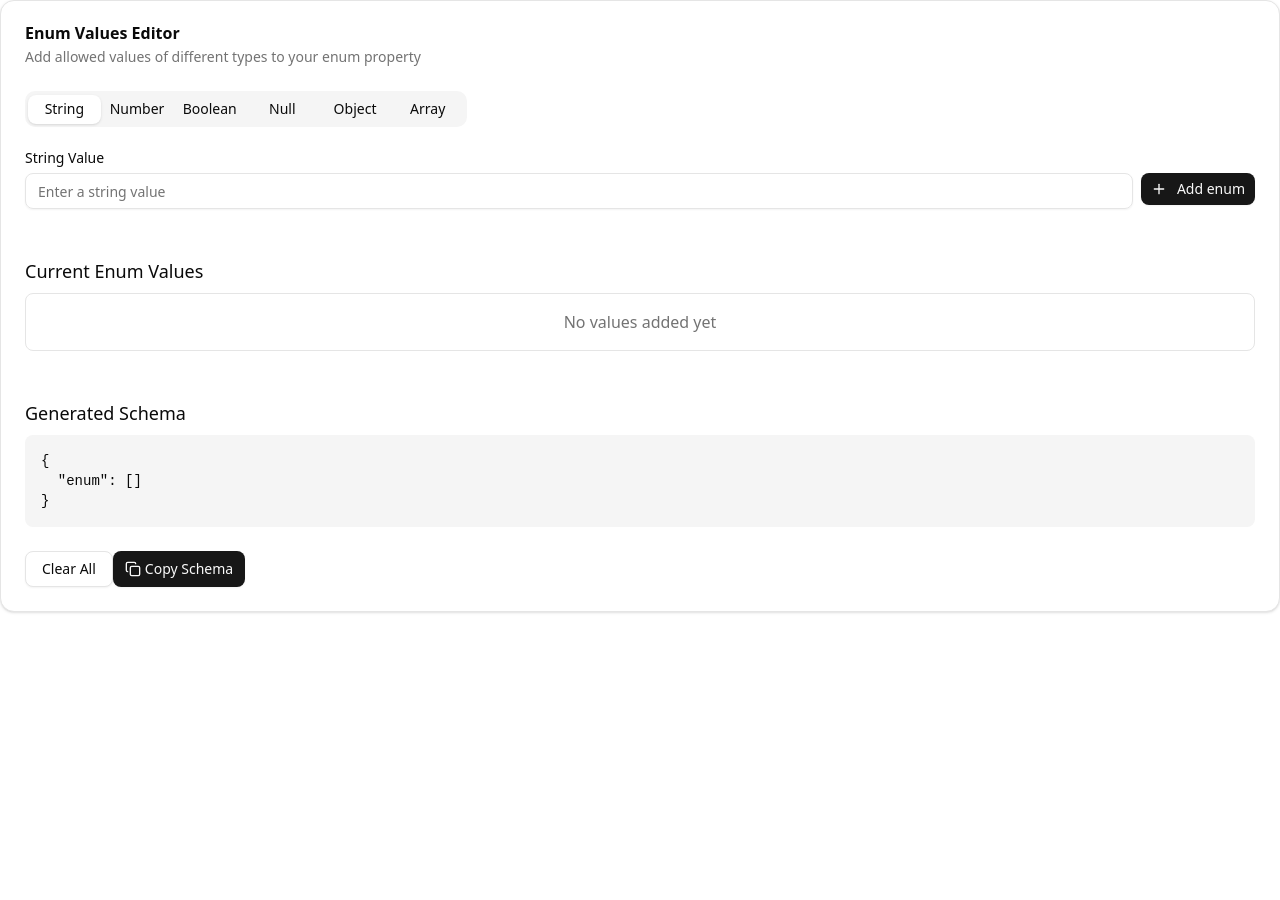
Scenario: EnumEditor › Value Management › shows validation errors for invalid array JSON
# Switch to array tab
Click the tab "Array".
click(428, 109)  # box [391,94,464,124]
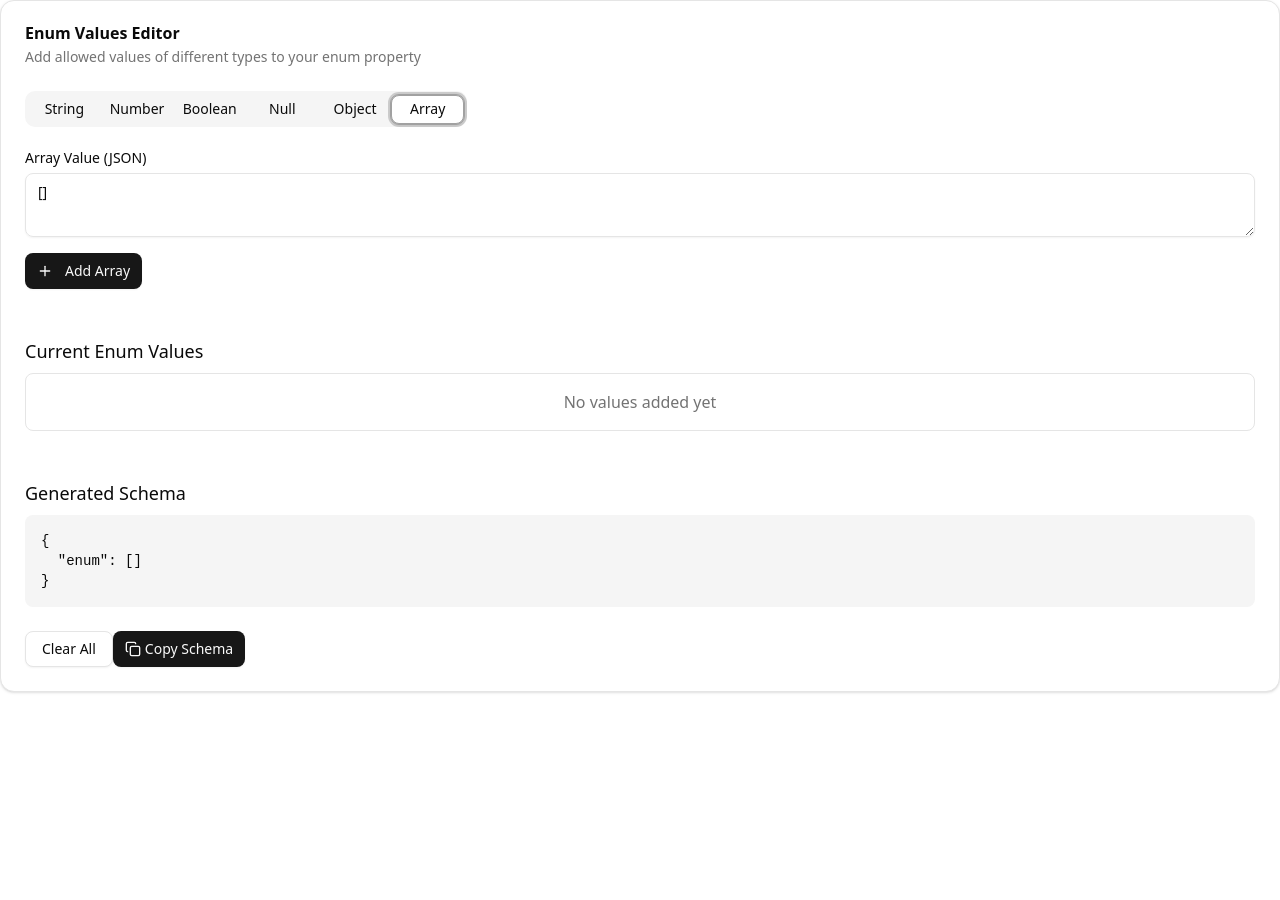
# Type invalid JSON
Replace the text in the text box labelled "Array Value (JSON)" with "[ [1,2," at (640, 205), box [25,173,1255,237]
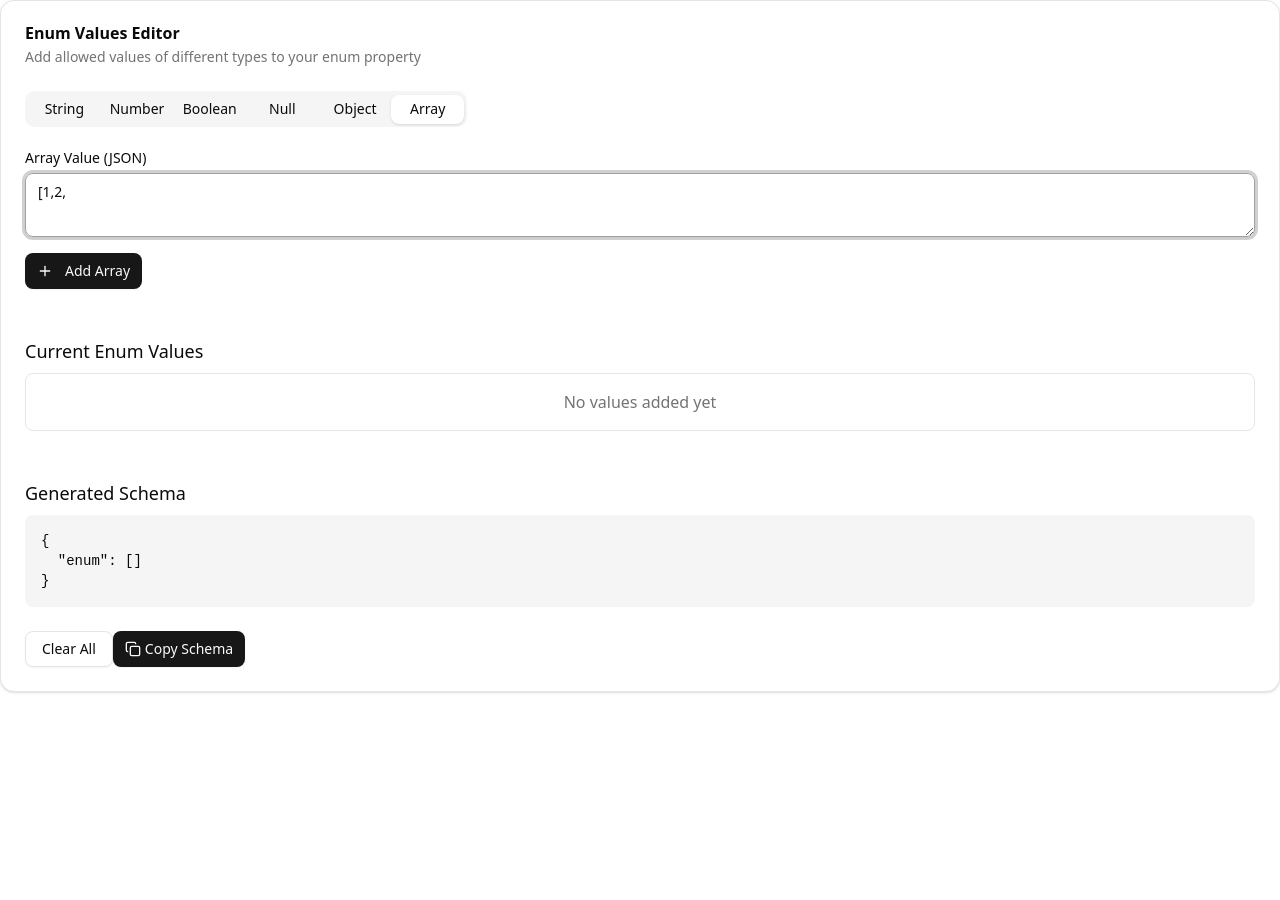
Click the button "Add Array".
click(84, 271)  # box [25,253,142,289]
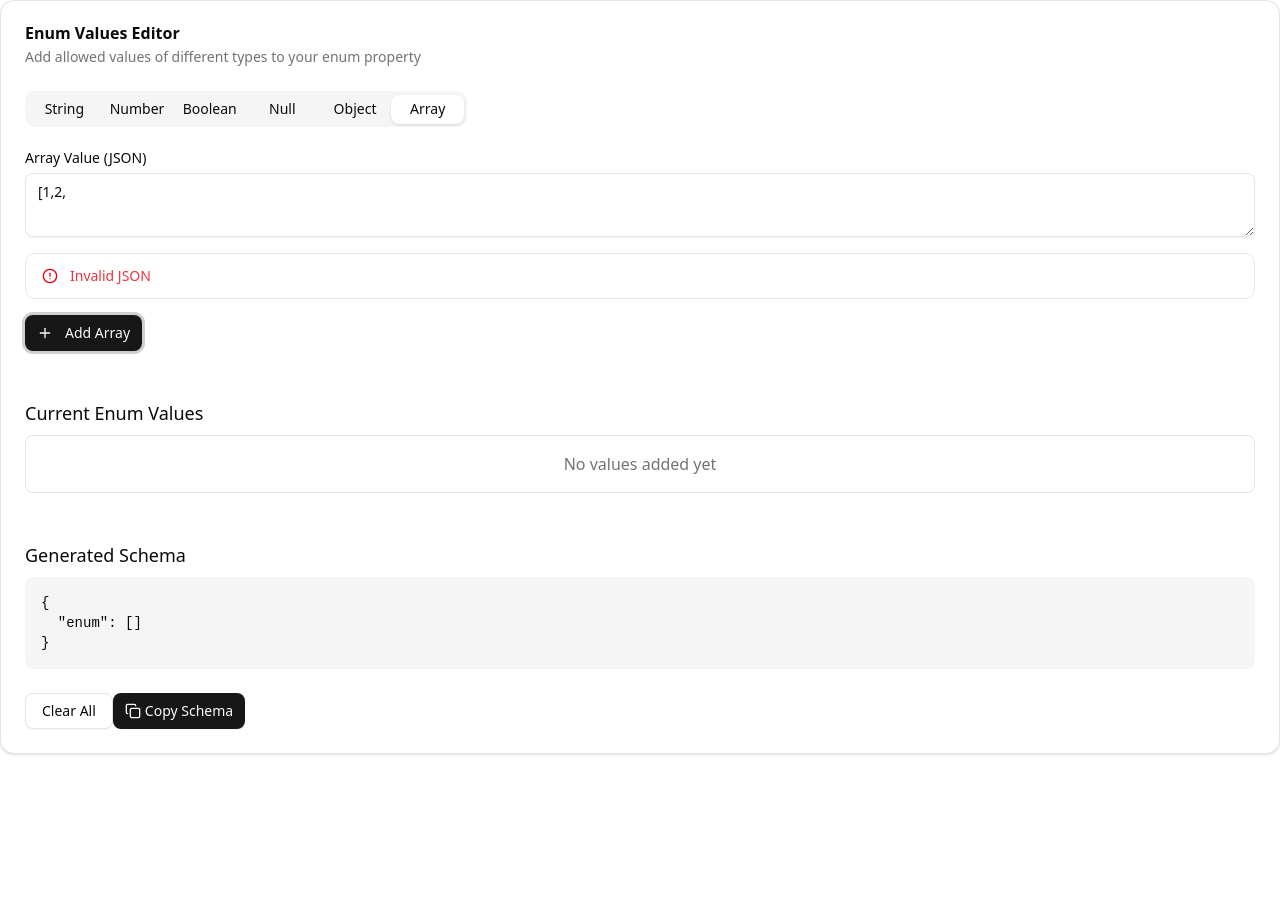
Result: the text "Invalid JSON" is shown at [70,266,151,285]
